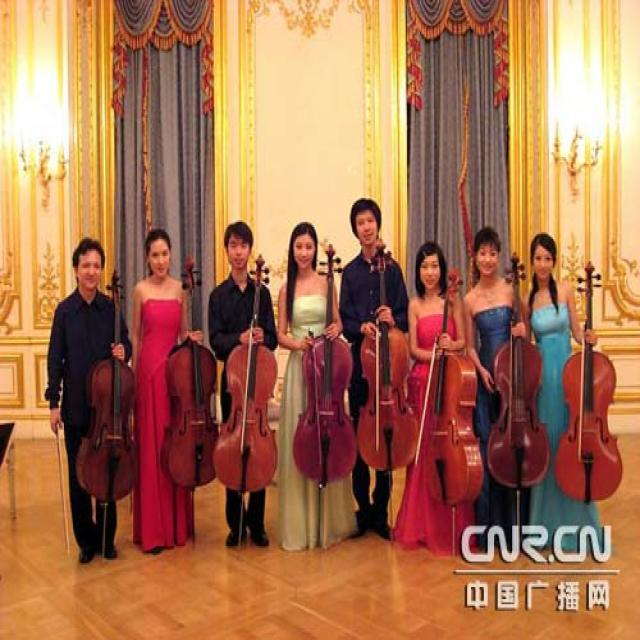cello: (552, 256, 624, 506), (287, 242, 358, 484), (350, 237, 421, 479), (419, 262, 487, 514), (213, 249, 282, 495), (76, 266, 142, 503), (487, 248, 551, 488), (157, 253, 220, 491)
